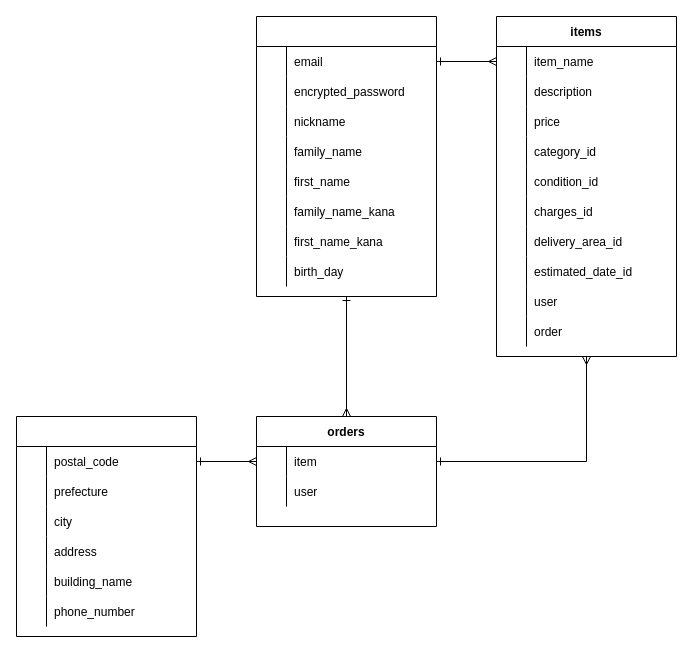
Some shapes in this 693 by 653 pixel diagram are drawn without their labels. Here are the shapes that lost their labels. From the top down, the box of each, then its label:
(256, 16, 436, 296): Users
(16, 416, 196, 636): destinations
